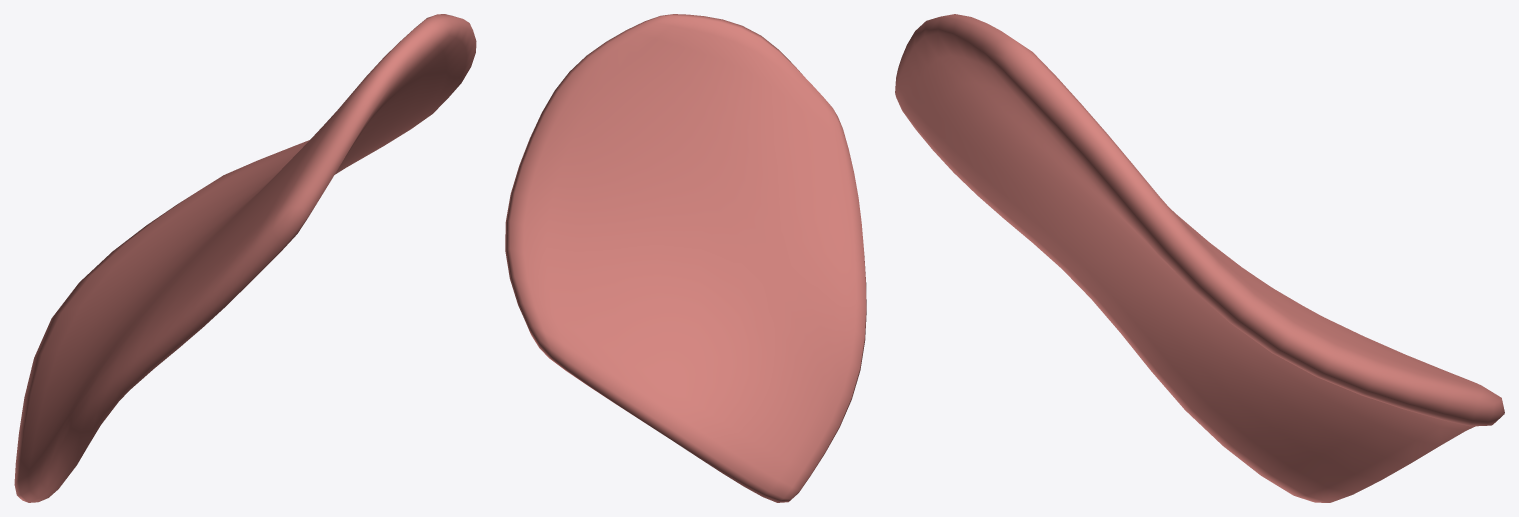
3 views of the same model, side by side, from view 1: azimuth 30°, elevation 25°; view 2: azimuth 150°, elevation 25°; view 3: azimuth 270°, elevation 25° (orthographic). The views are drawn at different scales.
Visible parts, largest first — view 1: ZA_1659cc5c4d56793a; view 2: ZA_1659cc5c4d56793a; view 3: ZA_1659cc5c4d56793a.
Part boxes in pixels (x1=…): ZA_1659cc5c4d56793a: x1=14, y1=14, x2=476, y2=502; ZA_1659cc5c4d56793a: x1=505, y1=14, x2=866, y2=502; ZA_1659cc5c4d56793a: x1=895, y1=14, x2=1504, y2=502.
Bounding box in the file's own units: 0.0153 × 0.0175 × 0.0152.
